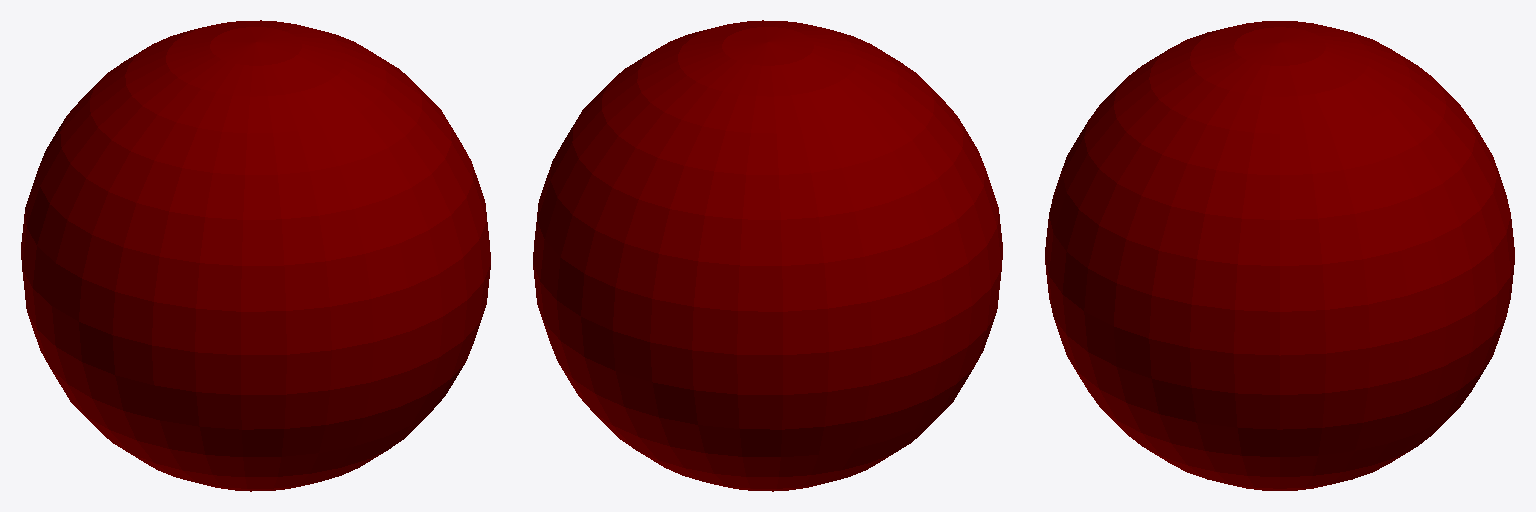
URDF robot description (sphere.urdf):
<?xml version="1.0" ?>
<robot name="sphere.urdf">

  <link name="base">
    <visual>
      <geometry>
        <sphere radius="0.005" />
      </geometry>
      <material name="red_metal">
        <color rgba="0.5 0.0 0.0 1"/>
      </material>
    </visual>

    <collision>
      <geometry>
        <sphere radius="0.005" />
      </geometry>
    </collision>
  </link>

</robot>

--- Render facts (derived) ---
The picture shows the robot from 3 angles, left to right: view 1: azimuth 30°, elevation 25°; view 2: azimuth 150°, elevation 25°; view 3: azimuth 270°, elevation 25°; orthographic projection.
Robot: sphere.urdf — 1 links, 0 joints (none); root link base; default pose: all joints at 0.
Links seen in each view (by area): view 1: base; view 2: base; view 3: base.
Boxes of the visible links, x1,y1,x2,y2 form: base: [21, 20, 490, 491]; base: [533, 20, 1002, 491]; base: [1045, 21, 1514, 490].
Size in the robot's own frame: 0.01 by 0.01 by 0.01 metres.
Geometry: primitives only (box / cylinder / sphere), no mesh files.